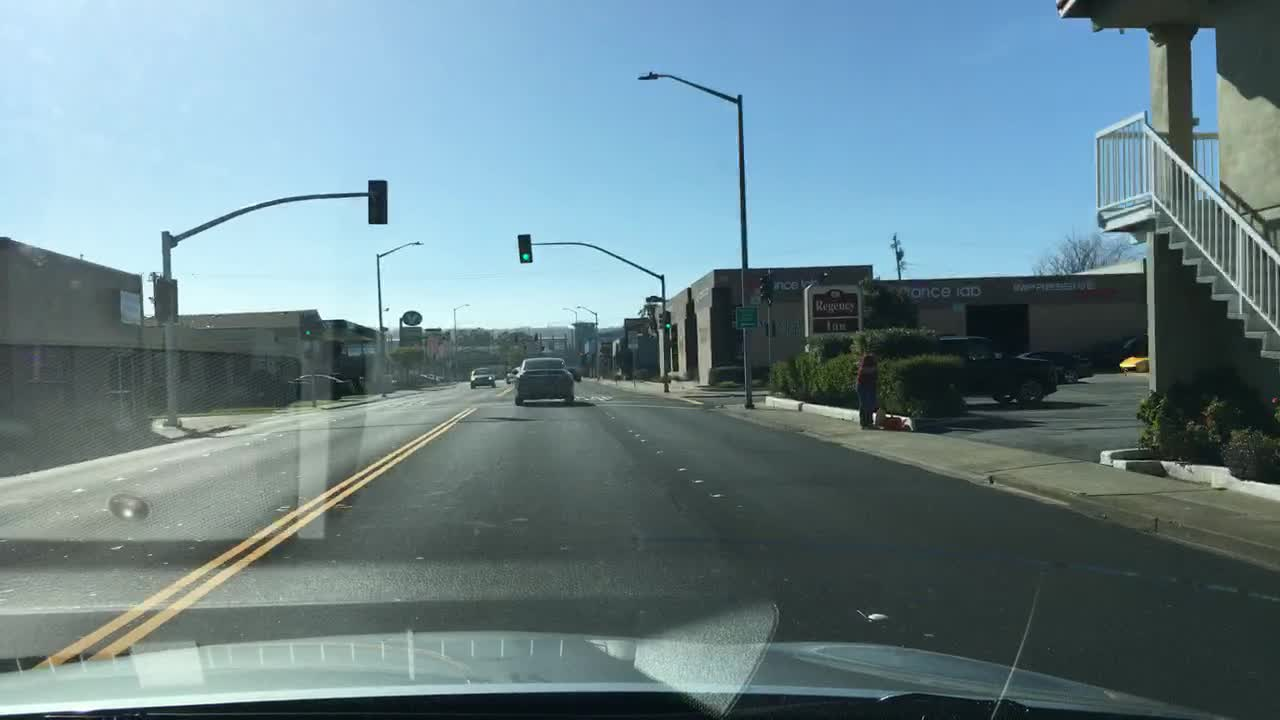car: (937, 332, 1057, 405), (509, 356, 575, 407), (1013, 346, 1096, 384), (292, 373, 354, 399), (1115, 332, 1150, 373), (468, 365, 498, 391), (504, 362, 522, 385), (565, 364, 582, 381), (413, 376, 438, 385), (429, 372, 449, 381), (389, 374, 401, 387)
person: (854, 349, 881, 431)
traffic light: (153, 275, 179, 326), (367, 178, 389, 226), (516, 232, 534, 264), (757, 272, 773, 302), (663, 315, 675, 332), (657, 311, 664, 330)
traffic sign: (734, 303, 757, 330), (625, 332, 636, 350)
